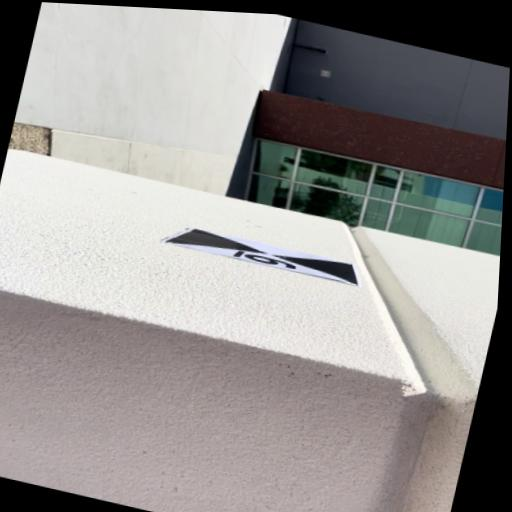target6: (165, 226, 361, 286)
